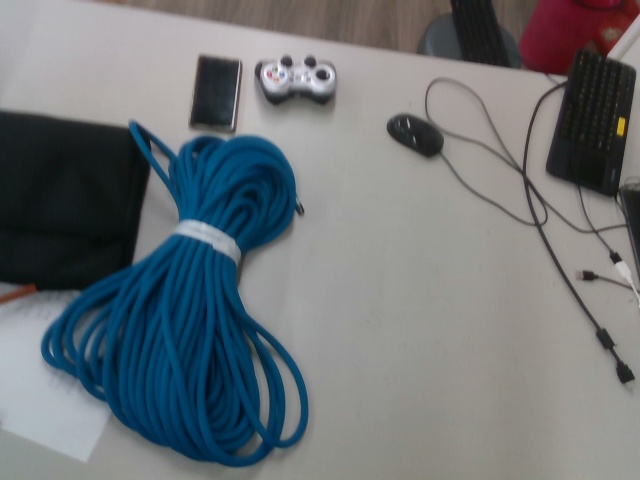rope: (39, 118, 312, 469)
